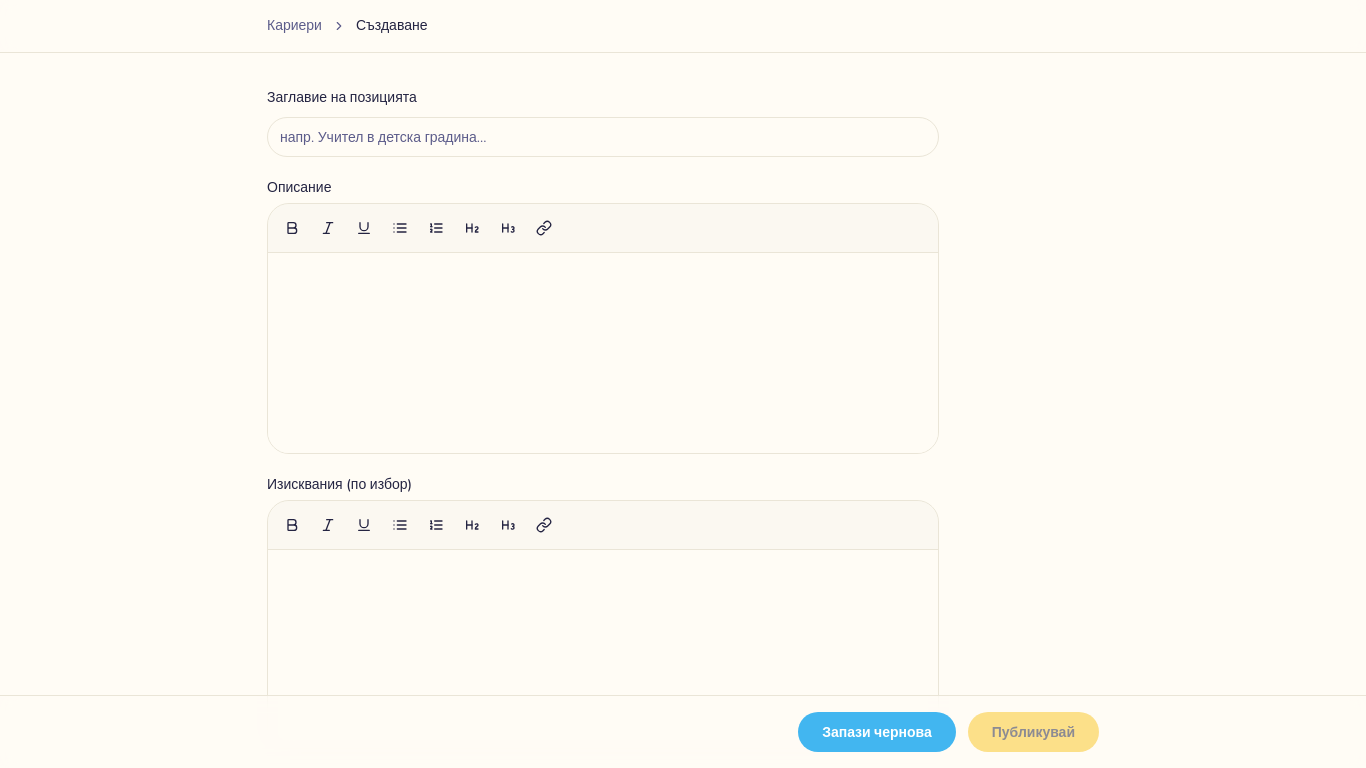
Test: JobCreate › shows validation error for empty title on save draft attempt
Click the button "Запази чернова" at (877, 732), box [798,712,956,752]
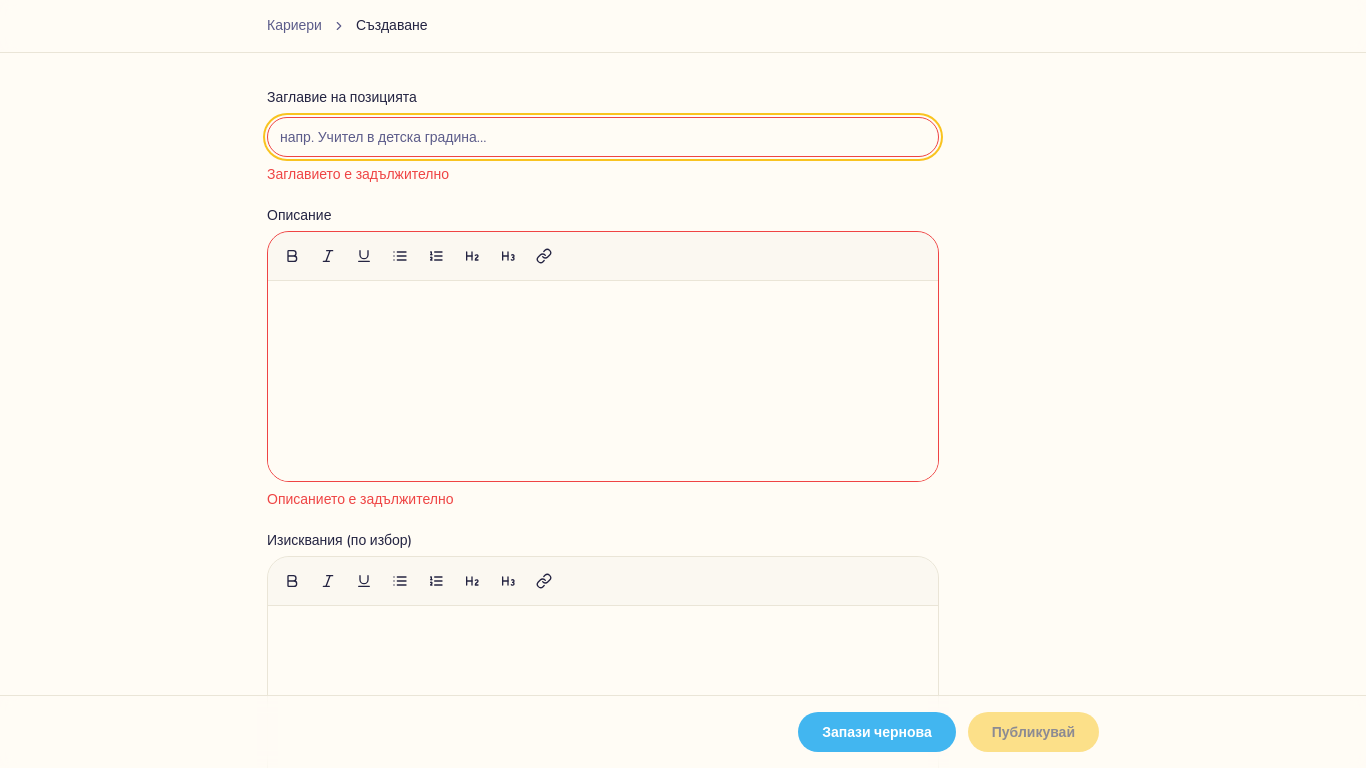
Expected: the text "Заглавието е задължително" is shown, [267,165,449,184]
